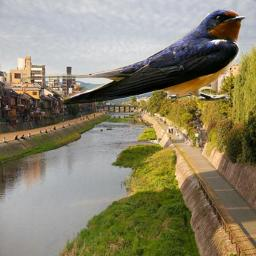Swallow: (15, 6, 246, 105)
